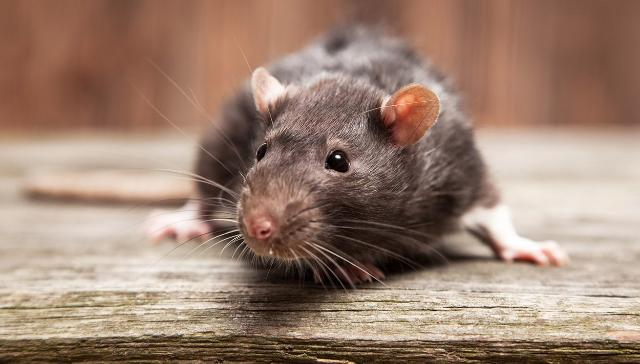rat: (158, 9, 540, 301)
